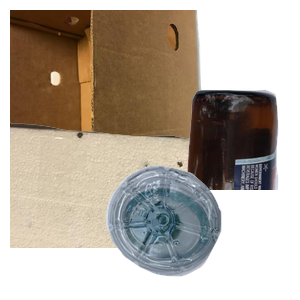cardboard: (10, 10, 211, 190)
glass: (87, 87, 300, 267)
plastic: (104, 163, 300, 300)
trash: (10, 120, 207, 300)
